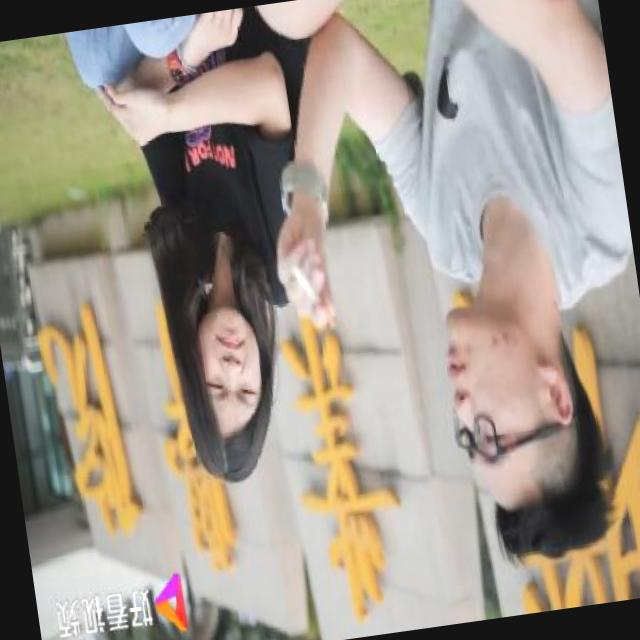cigarette: (282, 243, 341, 344)
